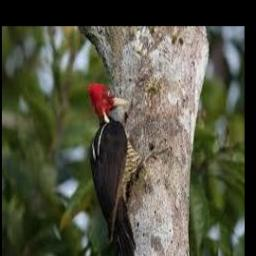Woodpecker: (87, 82, 169, 256)
